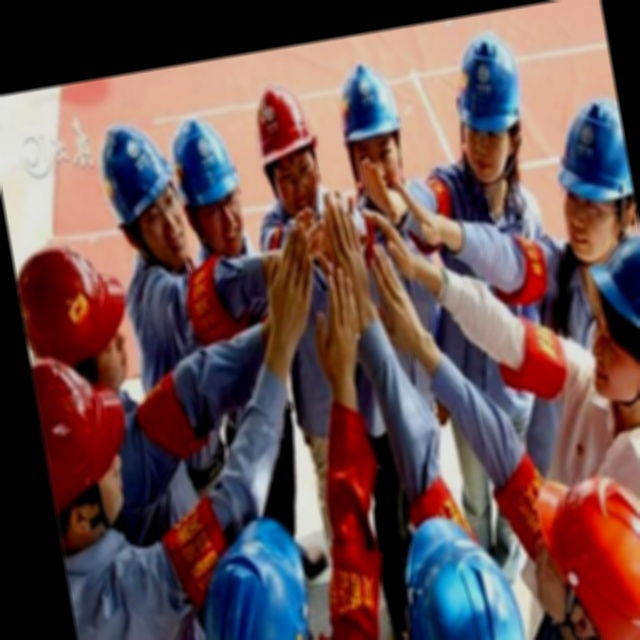Con_Casco: (96, 115, 188, 273), (445, 31, 533, 182)
